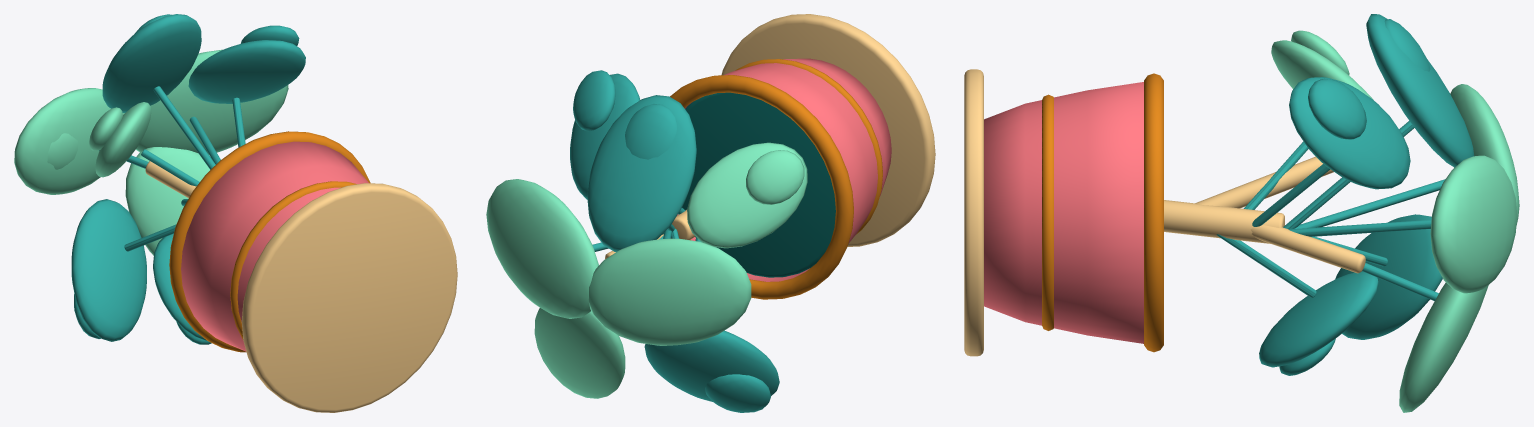
The model's file is TallHouseplant_Premium.fbx.
3 views of the same model, side by side, from view 1: azimuth 30°, elevation 25°; view 2: azimuth 150°, elevation 25°; view 3: azimuth 270°, elevation 25° (orthographic). The views are drawn at different scales.
Visible parts, largest first — view 1: TallHouseplant; view 2: TallHouseplant; view 3: TallHouseplant.
Part boxes in pixels (left/top/right/bottom): TallHouseplant: left=14, top=14, right=457, bottom=412; TallHouseplant: left=486, top=14, right=935, bottom=412; TallHouseplant: left=964, top=14, right=1519, bottom=412.
Bounding box in the file's own units: 0.8163 × 0.881 × 1.25.
